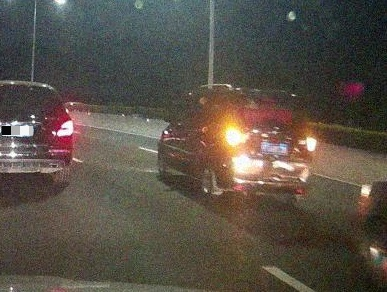L_light: (225, 130, 250, 144)
R_light: (298, 137, 315, 150)
T_light: (257, 103, 274, 107)
night-no: (219, 94, 316, 204)
plate_1: (2, 126, 33, 135)
